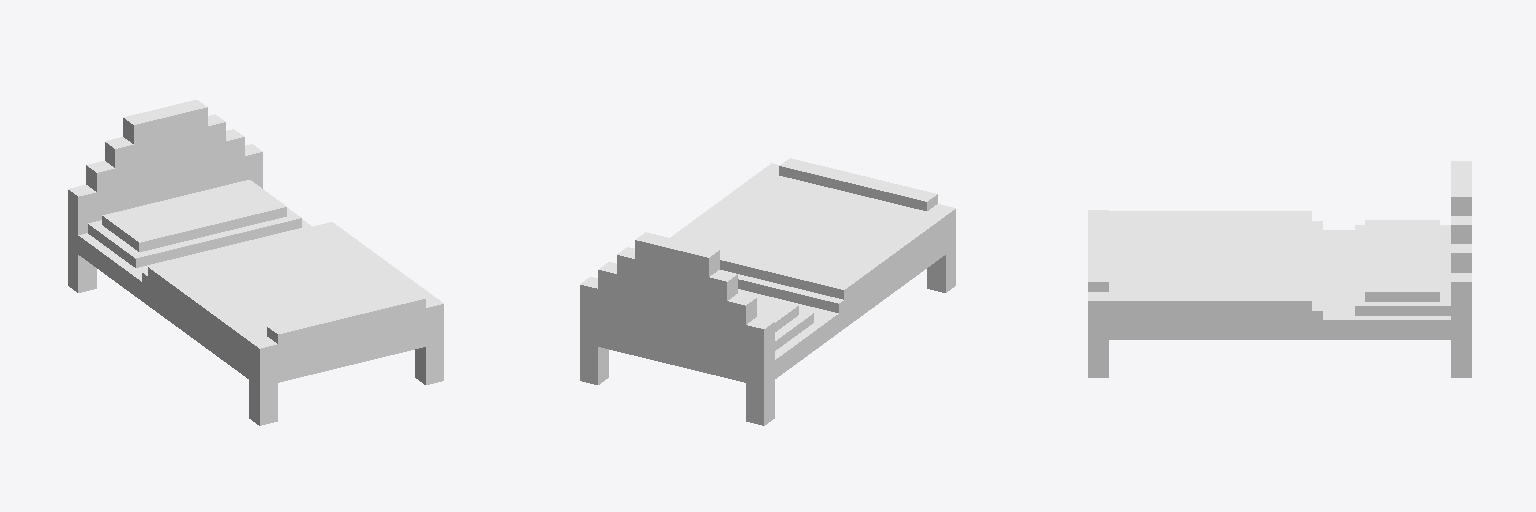
Rendered from łóżko.obj.
The picture shows the model from 3 angles: view 1: azimuth 30°, elevation 25°; view 2: azimuth 150°, elevation 25°; view 3: azimuth 270°, elevation 25°; orthographic projection.
Parts seen in each view (by area): view 1: object 1; view 2: object 1; view 3: object 1.
Boxes of the visible parts, <box> form: object 1: <box>68,100,443,425</box>; object 1: <box>580,158,955,425</box>; object 1: <box>1088,161,1471,377</box>.
Bounding box in the file's own units: 2 × 1.6 × 3.6.